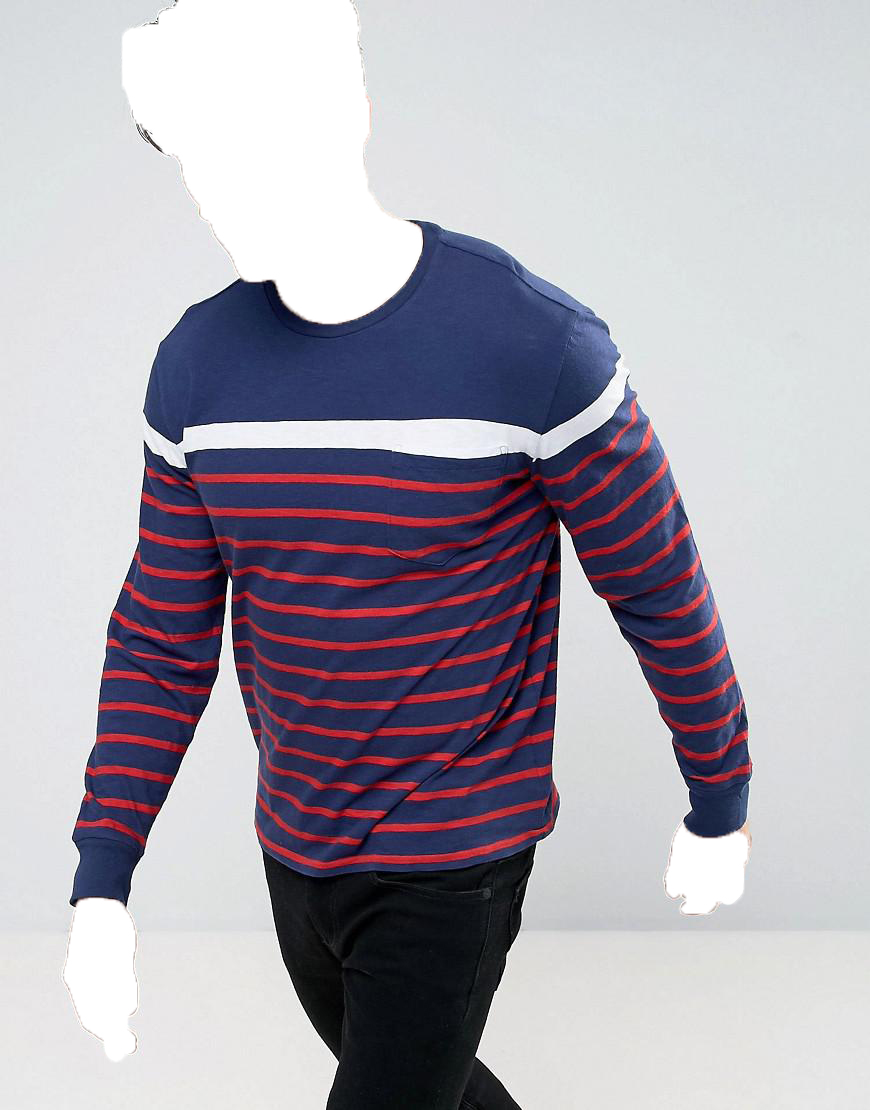teeshirt: (66, 225, 769, 910)
